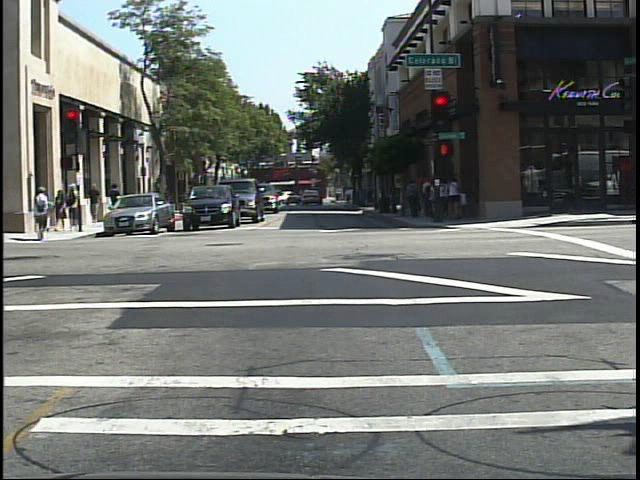person: (30, 185, 53, 243)
